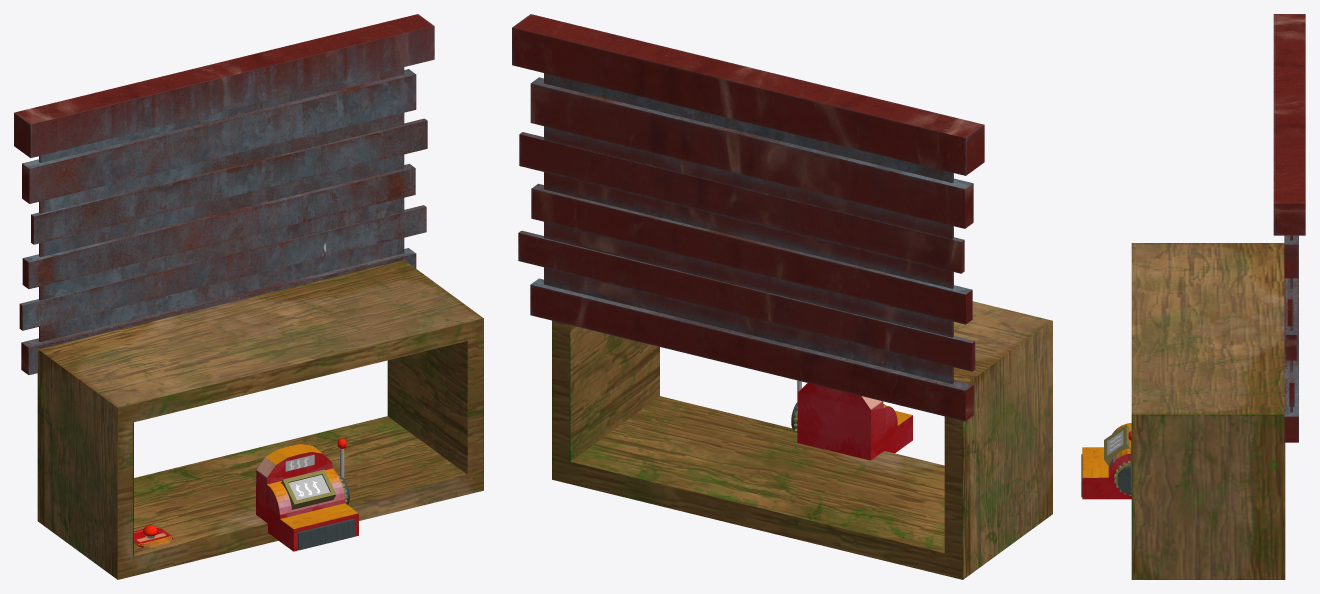
File: TicketWindow-V23.fbx
The picture shows the model from 3 angles, left to right: view 1: azimuth 30°, elevation 25°; view 2: azimuth 150°, elevation 25°; view 3: azimuth 270°, elevation 25°; orthographic projection. The views are drawn at different scales.
Parts seen in each view (by area): view 1: Shutter, Frame, CashReg, CashReg_MainScreen, CashRegBox; view 2: Shutter, Frame, CashReg; view 3: Frame, Shutter, CashReg, CashReg_MainScreen, CrankWheel.
Boxes of the visible parts, x1=… form: Shutter: x1=14, y1=14, x2=434, y2=374; Frame: x1=37, y1=260, x2=483, y2=579; CashReg: x1=256, y1=444, x2=358, y2=551; CashReg_MainScreen: x1=281, y1=469, x2=336, y2=509; CashRegBox: x1=298, y1=518, x2=355, y2=550; Shutter: x1=512, y1=14, x2=984, y2=421; Frame: x1=552, y1=301, x2=1052, y2=579; CashReg: x1=797, y1=383, x2=912, y2=460; Frame: x1=1131, y1=243, x2=1285, y2=579; Shutter: x1=1273, y1=14, x2=1305, y2=442; CashReg: x1=1082, y1=423, x2=1131, y2=499; CashReg_MainScreen: x1=1104, y1=424, x2=1129, y2=466; CrankWheel: x1=1114, y1=460, x2=1131, y2=495.
Bounding box in the file's own units: 250 × 239 × 125.
